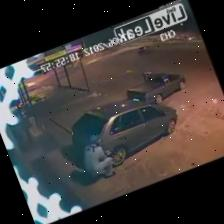person: (83, 135, 114, 178)
